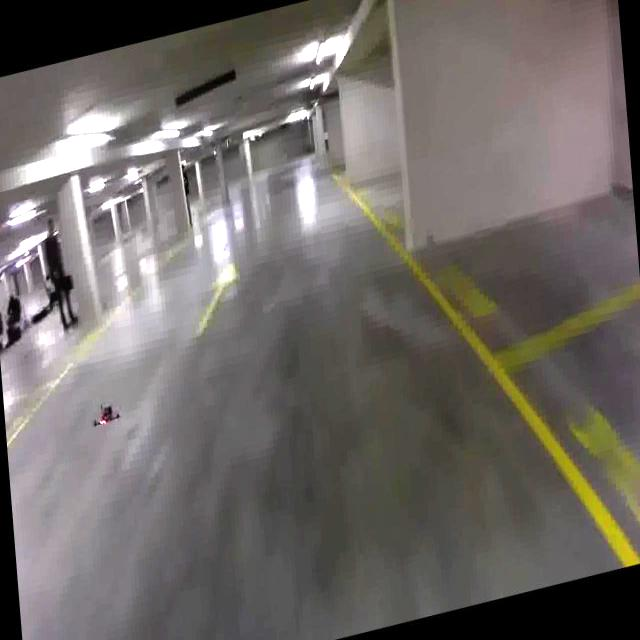drone: (86, 384, 128, 447)
